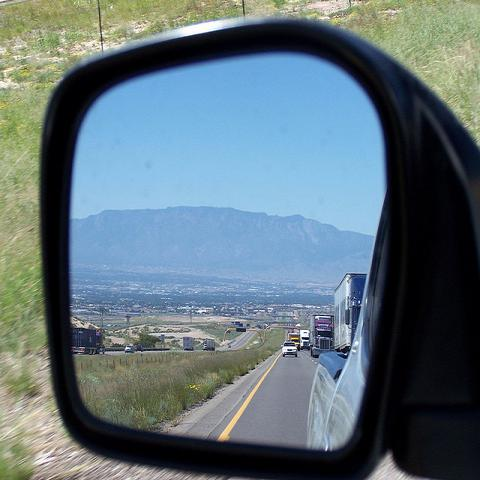car: (281, 341, 298, 357), (125, 345, 134, 354), (135, 345, 142, 351), (228, 345, 231, 348)
truck: (310, 252, 374, 450), (334, 272, 367, 355), (309, 314, 333, 358), (71, 328, 106, 354), (182, 336, 196, 352), (300, 330, 310, 350), (206, 338, 220, 351), (289, 335, 300, 351)
